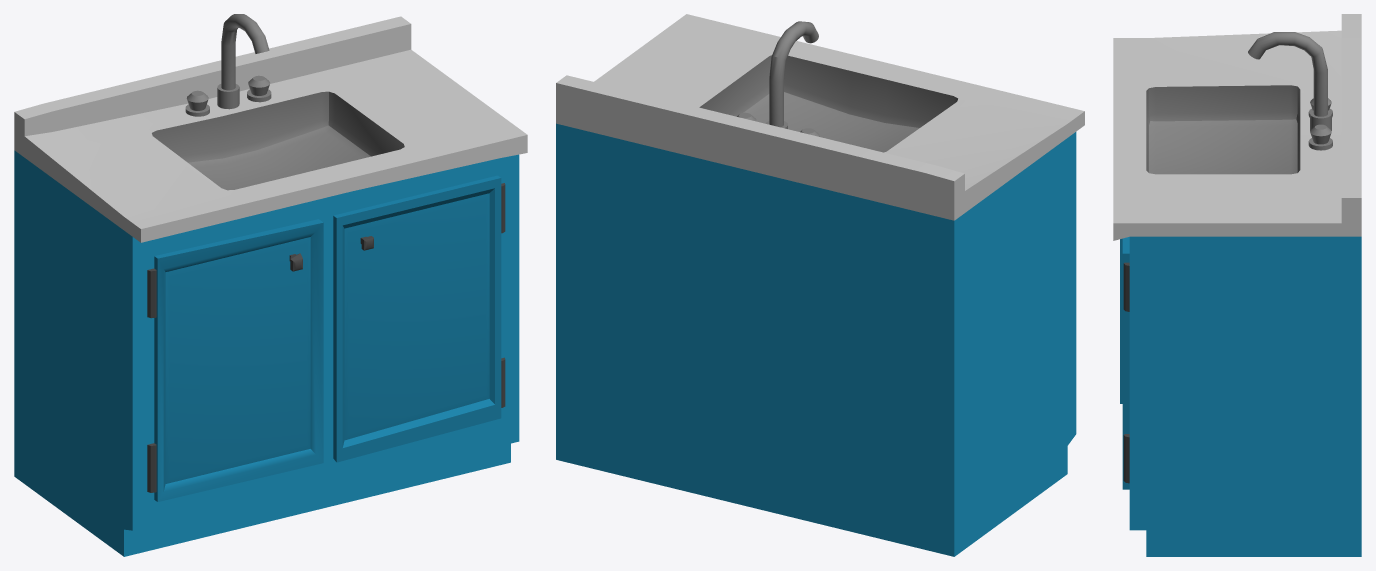
Rendered from fridge.fbx.
3 views of the same model, side by side, from view 1: azimuth 30°, elevation 25°; view 2: azimuth 150°, elevation 25°; view 3: azimuth 270°, elevation 25° (orthographic). The views are drawn at different scales.
Visible parts, largest first — view 1: Sink; view 2: Sink; view 3: Sink.
Boxes of the visible parts, x1,y1,x2,y2 form: Sink: (14,14,527,556); Sink: (556,14,1084,556); Sink: (1113,14,1361,556).
Bounding box in the file's own units: 200 × 113 × 218.
